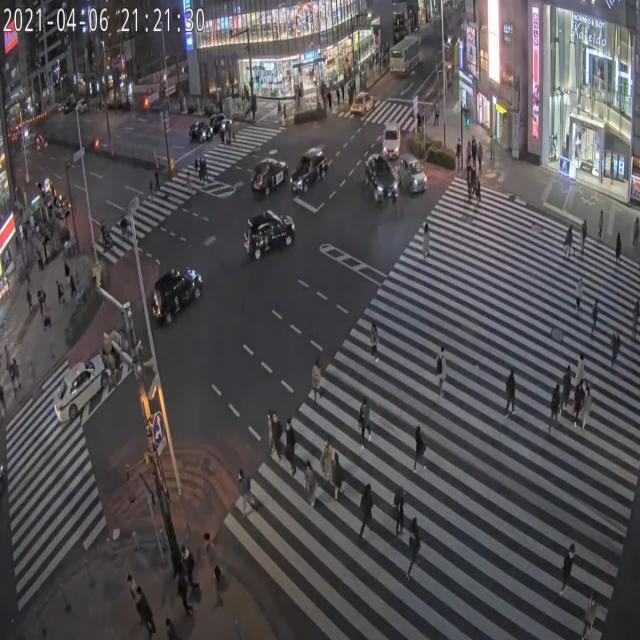humans: (354, 473, 379, 549), (202, 522, 228, 594), (581, 573, 606, 640), (500, 358, 521, 434), (232, 461, 256, 522), (409, 412, 430, 474), (406, 504, 423, 580), (363, 312, 384, 372), (559, 526, 576, 600), (121, 570, 142, 629), (268, 405, 287, 468), (182, 530, 199, 596), (301, 450, 318, 516), (431, 344, 450, 403), (284, 418, 298, 490), (308, 351, 323, 414), (389, 475, 404, 537), (175, 568, 191, 621), (136, 586, 154, 632), (559, 363, 575, 412), (357, 393, 371, 446), (548, 380, 560, 440), (332, 444, 343, 506), (573, 355, 588, 399), (584, 379, 594, 442), (607, 331, 622, 373), (420, 223, 434, 267), (322, 435, 333, 486), (262, 412, 272, 466), (630, 213, 640, 258), (564, 222, 574, 261), (580, 218, 590, 257), (632, 302, 640, 350), (591, 299, 601, 337), (576, 376, 583, 426), (597, 207, 605, 250), (575, 278, 584, 311), (477, 139, 485, 175), (614, 229, 620, 274), (466, 162, 472, 202), (474, 172, 481, 204), (456, 140, 461, 179), (466, 135, 472, 166), (473, 134, 477, 166)
